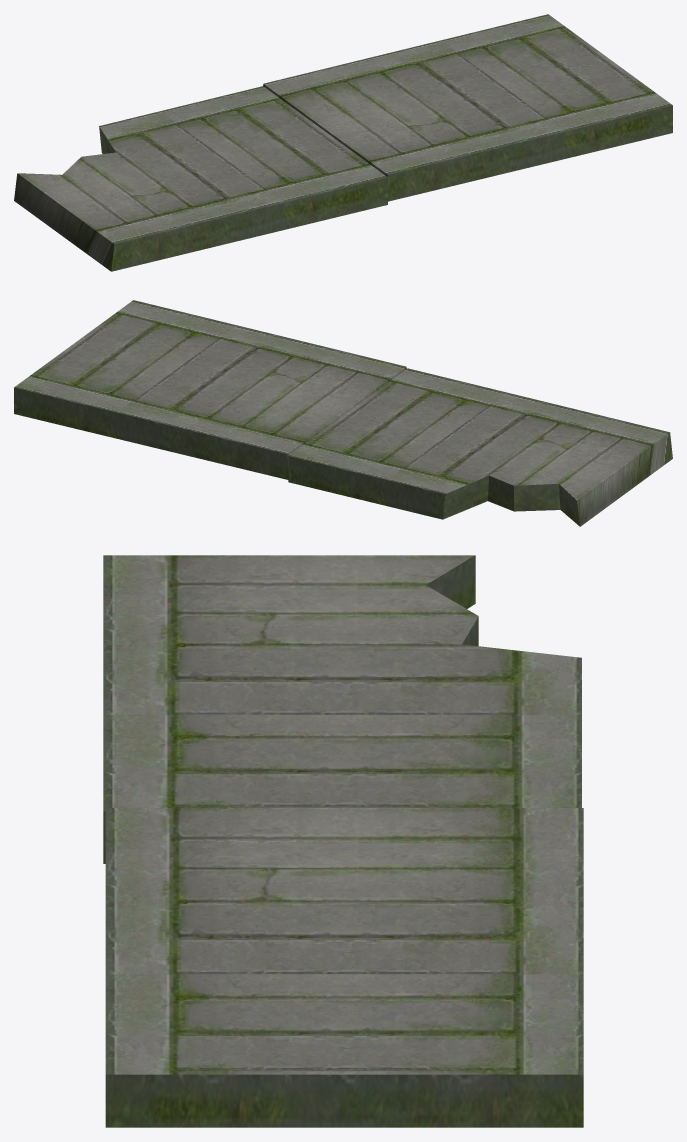
File: SC001Jguodao_05.FBX
3 views of the same model, one above another, from view 1: azimuth 30°, elevation 25°; view 2: azimuth 150°, elevation 25°; view 3: azimuth 270°, elevation 25° (orthographic). The views are drawn at different scales.
Parts seen in each view (by area): view 1: SC001Jguodao_05 (×2); view 2: SC001Jguodao_05 (×2); view 3: SC001Jguodao_05 (×2).
Boxes of the visible parts, x1,y1,x2,y2 form: SC001Jguodao_05 (×2): (14, 14, 672, 271); SC001Jguodao_05 (×2): (14, 300, 672, 526); SC001Jguodao_05 (×2): (103, 555, 583, 1127).
Size of the model in its own units: 9.3 by 0.4647 by 3.58.
